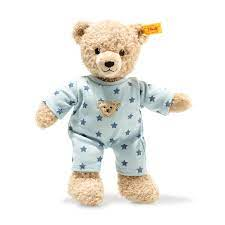teddy: (31, 15, 197, 211)
